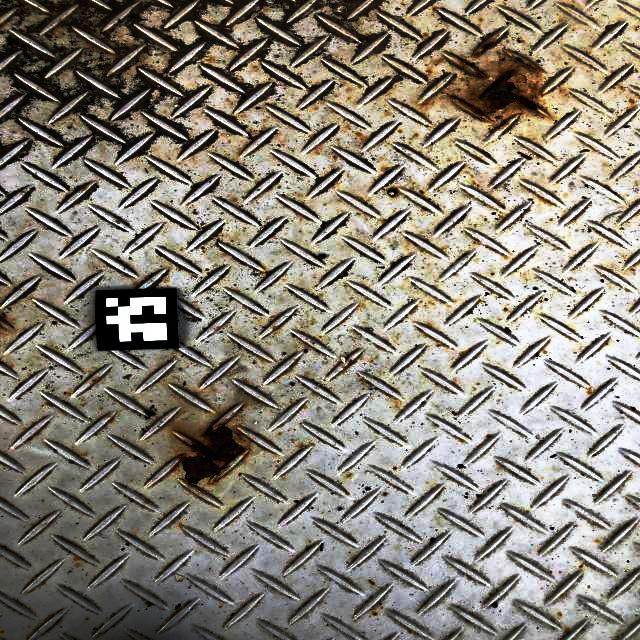Corrosion: (450, 50, 548, 129), (172, 413, 251, 495), (473, 39, 496, 58), (387, 187, 400, 198), (0, 316, 9, 331), (342, 359, 353, 370), (92, 377, 100, 385), (32, 430, 39, 436), (381, 167, 389, 171), (432, 6, 437, 12), (299, 443, 304, 448), (20, 190, 26, 194), (110, 417, 114, 422), (82, 186, 86, 191), (436, 345, 441, 347), (201, 246, 204, 249)
